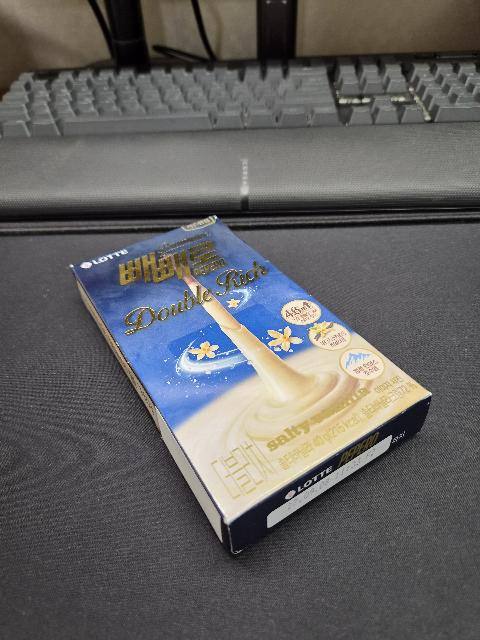pepero: (70, 215, 432, 554)
